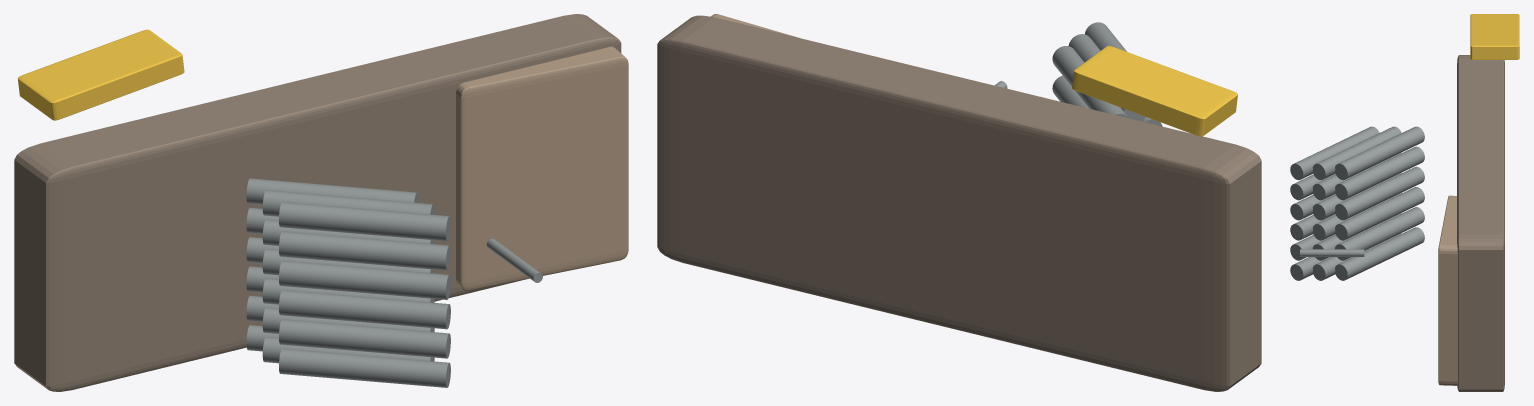
File: d-x03-dominion-drone-lod2.glb
The picture shows the model from 3 angles, left to right: view 1: azimuth 30°, elevation 25°; view 2: azimuth 150°, elevation 25°; view 3: azimuth 270°, elevation 25°; orthographic projection. The views are drawn at different scales.
Visible parts, largest first — view 1: strategic_lower, strategic_nose, strategic_jack_1, drone_cells_tube_15, drone_cells_tube_13, drone_cells_tube_14, drone_cells_tube_16, drone_cells_tube_17, drone_cells_tube_18, drone_cells_tube_6, drone_cells_tube_12, drone_cells_tube_11 (+5 smaller); view 2: strategic_lower, strategic_jack_1, drone_cells_tube_6, drone_cells_tube_12, drone_cells_tube_18, drone_cells_tube_5; view 3: strategic_lower, strategic_nose, strategic_jack_1, drone_cells_tube_5, drone_cells_tube_6, drone_cells_tube_3, drone_cells_tube_4, drone_cells_tube_1, drone_cells_tube_2, drone_cells_tube_12, drone_cells_tube_18, drone_cells_tube_11 (+10 smaller).
Boxes of the visible parts, box(x1,y1,x2,y2) form: strategic_lower: box(14, 14, 621, 391); strategic_nose: box(456, 46, 628, 290); strategic_jack_1: box(17, 29, 184, 120); drone_cells_tube_15: box(279, 290, 450, 329); drone_cells_tube_13: box(279, 348, 450, 387); drone_cells_tube_14: box(279, 319, 450, 358); drone_cells_tube_16: box(279, 260, 450, 299); drone_cells_tube_17: box(279, 231, 450, 270); drone_cells_tube_18: box(279, 202, 450, 241); drone_cells_tube_6: box(246, 178, 418, 204); drone_cells_tube_12: box(262, 190, 434, 216); drone_cells_tube_11: box(262, 219, 434, 245); strategic_lower: box(657, 15, 1261, 391); strategic_jack_1: box(1072, 46, 1237, 136); drone_cells_tube_6: box(1052, 46, 1128, 118); drone_cells_tube_12: box(1068, 34, 1145, 121); drone_cells_tube_18: box(1085, 22, 1126, 51); drone_cells_tube_5: box(1052, 75, 1088, 108); strategic_lower: box(1457, 55, 1504, 391); strategic_nose: box(1438, 195, 1457, 385); strategic_jack_1: box(1470, 14, 1519, 59); drone_cells_tube_5: box(1335, 146, 1424, 200); drone_cells_tube_6: box(1335, 126, 1424, 180); drone_cells_tube_3: box(1335, 187, 1424, 240); drone_cells_tube_4: box(1335, 166, 1424, 220); drone_cells_tube_1: box(1335, 227, 1424, 280); drone_cells_tube_2: box(1335, 207, 1424, 260); drone_cells_tube_12: box(1312, 126, 1401, 180); drone_cells_tube_18: box(1290, 126, 1379, 179); drone_cells_tube_11: box(1312, 152, 1401, 200).
Size of what is drawn, in the model's own units: 9.5 by 4.74 by 4.78.
